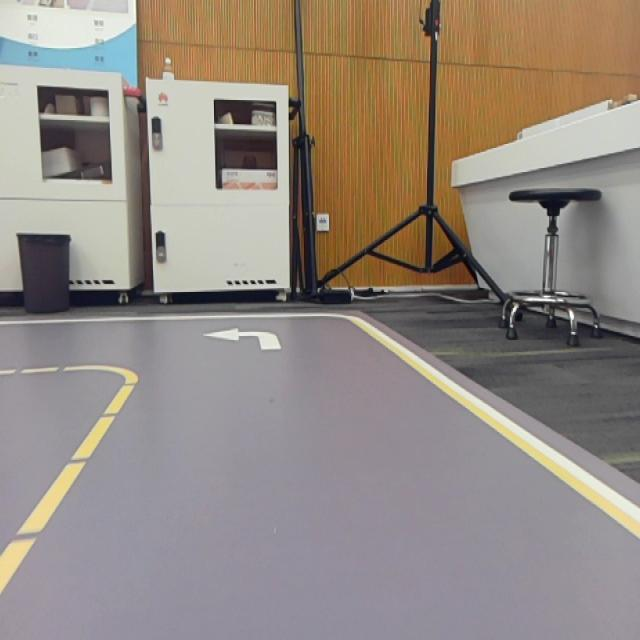left_lane: (0, 379, 138, 592)
right_lane: (346, 317, 640, 538)
